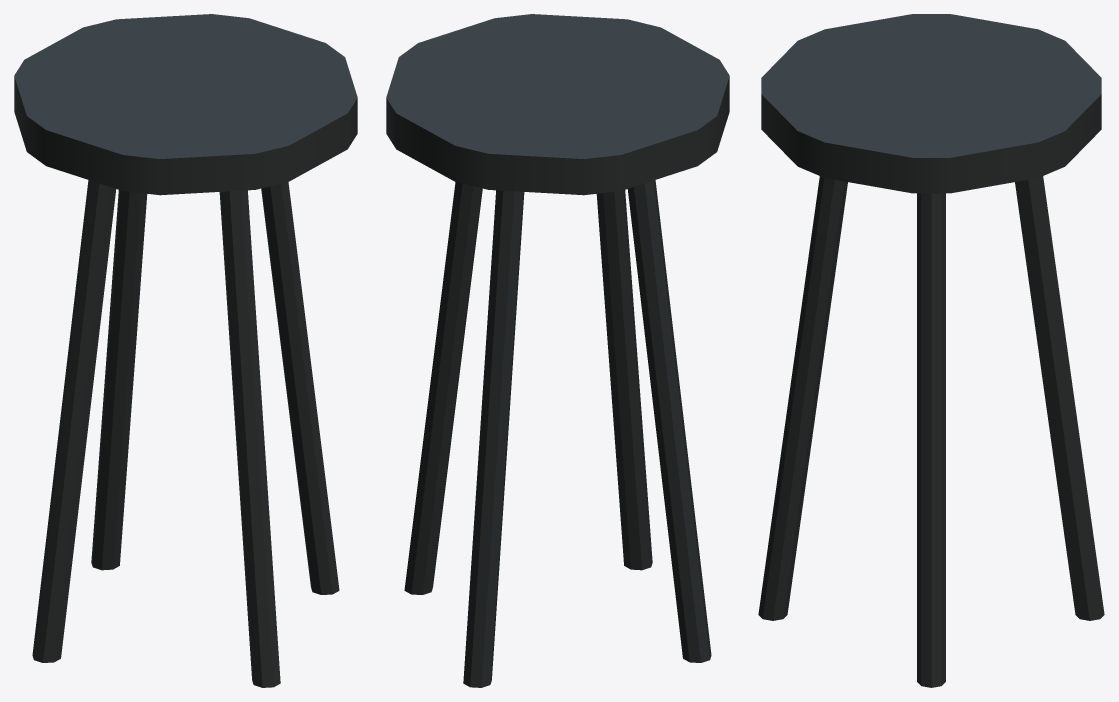
File: HighStool.glb
3 renders of one model, left to right at view 1: azimuth 30°, elevation 25°; view 2: azimuth 150°, elevation 25°; view 3: azimuth 270°, elevation 25°, orthographic.
Parts seen in each view (by area): view 1: highStool; view 2: highStool; view 3: highStool.
Part boxes in pixels (x1,y1,x2,y2): highStool: [14, 14, 357, 687]; highStool: [386, 14, 729, 687]; highStool: [758, 14, 1104, 687].
Size of what is drawn, in the model's own units: 0.5799 by 0.9776 by 0.5799.
1 material, 1 textured.
